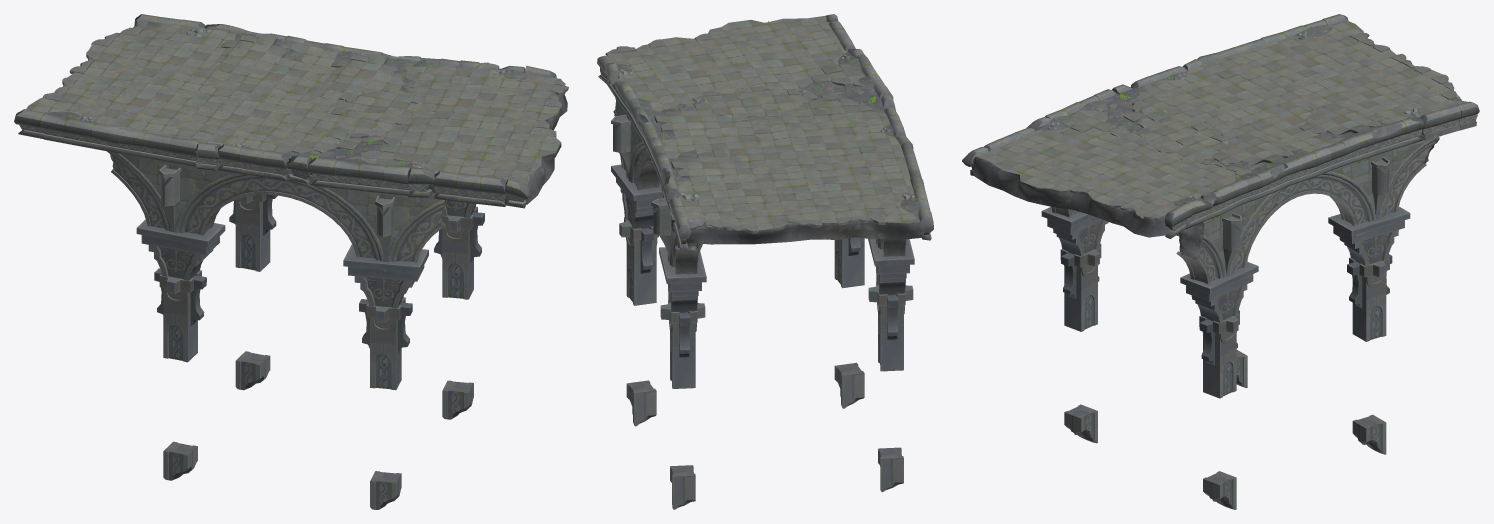
The model's file is SkillObj_Monster_Dvalin_Platform_02.fbx.
3 views of the same model, side by side, from view 1: azimuth 30°, elevation 25°; view 2: azimuth 150°, elevation 25°; view 3: azimuth 270°, elevation 25° (orthographic). The views are drawn at different scales.
Parts seen in each view (by area): view 1: Area_MdBuild_SdBridge13_Lod0.001, Area_MdBuild_SdArch06_04_Lod0.001, Area_MdProps_SdPillar02_02_Lod0.003, Area_MdProps_SdPillar02_02_Lod0.002, Area_MdProps_SdPillar02_02_Lod0, Area_MdBuild_SdRuins07_07_Lod0, Area_MdProps_SdPillar02_03_Lod0.003, Area_MdBuild_SdArch06_01_Lod0.001, Area_MdProps_SdPillar02_03_Lod0.002, Area_MdBuild_SdWall01_08_Lod0, Area_MdProps_SdPillar02_02_Lod0.001, Area_MdBuild_SdWall01_08_Lod0.001 (+9 smaller); view 2: Area_MdBuild_SdBridge13_Lod0.001, Area_MdBuild_SdRuins07_07_Lod0, Area_MdProps_SdPillar02_02_Lod0, Area_MdBuild_SdWall01_08_Lod0, Area_MdProps_SdPillar02_02_Lod0.003, Area_MdProps_SdPillar02_02_Lod0.001, Area_MdBuild_SdWall01_08_Lod0.001, Area_MdProps_SdPillar02_03_Lod0.001, Area_MdProps_SdPillar02_03_Lod0, Area_MdProps_SdPillar02_03_Lod0.003, Area_MdProps_SdPillar02_02_Lod0.002, Area_MdBuild_SdArch06_04_Lod0 (+10 smaller); view 3: Area_MdBuild_SdBridge13_Lod0.001, Area_MdBuild_SdArch06_04_Lod0, Area_MdProps_SdPillar02_02_Lod0.001, Area_MdProps_SdPillar02_02_Lod0.002, Area_MdProps_SdPillar02_02_Lod0, Area_MdBuild_SdRuins07_07_Lod0, Area_MdProps_SdPillar02_03_Lod0.001, Area_MdBuild_SdArch06_01_Lod0, Area_MdProps_SdPillar02_03_Lod0, Area_MdBuild_SdArch06_02_Lod0, Area_MdBuild_SdWall01_08_Lod0, Area_MdBuild_SdWall01_08_Lod0.001 (+8 smaller).
Boxes of the visible parts, x1=… form: Area_MdBuild_SdBridge13_Lod0.001: x1=14, y1=14, x2=567, y2=208; Area_MdBuild_SdArch06_04_Lod0.001: x1=172, y1=163, x2=386, y2=271; Area_MdProps_SdPillar02_02_Lod0.003: x1=154, y1=268, x2=206, y2=362; Area_MdProps_SdPillar02_02_Lod0.002: x1=359, y1=297, x2=412, y2=390; Area_MdProps_SdPillar02_02_Lod0: x1=434, y1=206, x2=484, y2=299; Area_MdBuild_SdRuins07_07_Lod0: x1=330, y1=79, x2=424, y2=138; Area_MdProps_SdPillar02_03_Lod0.003: x1=136, y1=219, x2=225, y2=280; Area_MdBuild_SdArch06_01_Lod0.001: x1=383, y1=192, x2=446, y2=271; Area_MdProps_SdPillar02_03_Lod0.002: x1=343, y1=244, x2=428, y2=308; Area_MdBuild_SdWall01_08_Lod0: x1=301, y1=53, x2=402, y2=101; Area_MdProps_SdPillar02_02_Lod0.001: x1=229, y1=194, x2=277, y2=271; Area_MdBuild_SdWall01_08_Lod0.001: x1=187, y1=34, x2=291, y2=82; Area_MdBuild_SdBridge13_Lod0.001: x1=597, y1=14, x2=933, y2=249; Area_MdBuild_SdRuins07_07_Lod0: x1=684, y1=86, x2=817, y2=118; Area_MdProps_SdPillar02_02_Lod0: x1=619, y1=217, x2=658, y2=305; Area_MdBuild_SdWall01_08_Lod0: x1=654, y1=103, x2=769, y2=138; Area_MdProps_SdPillar02_02_Lod0.003: x1=868, y1=282, x2=913, y2=371; Area_MdProps_SdPillar02_02_Lod0.001: x1=660, y1=300, x2=705, y2=388; Area_MdBuild_SdWall01_08_Lod0.001: x1=671, y1=149, x2=787, y2=184; Area_MdProps_SdPillar02_03_Lod0.001: x1=659, y1=247, x2=706, y2=312; Area_MdProps_SdPillar02_03_Lod0: x1=611, y1=164, x2=662, y2=228; Area_MdProps_SdPillar02_03_Lod0.003: x1=868, y1=239, x2=914, y2=294; Area_MdProps_SdPillar02_02_Lod0.002: x1=834, y1=237, x2=864, y2=288; Area_MdBuild_SdArch06_04_Lod0: x1=628, y1=118, x2=669, y2=261; Area_MdBuild_SdBridge13_Lod0.001: x1=962, y1=14, x2=1479, y2=238; Area_MdBuild_SdArch06_04_Lod0: x1=1227, y1=155, x2=1377, y2=279; Area_MdProps_SdPillar02_02_Lod0.001: x1=1347, y1=254, x2=1392, y2=341; Area_MdProps_SdPillar02_02_Lod0.002: x1=1060, y1=243, x2=1101, y2=331; Area_MdProps_SdPillar02_02_Lod0: x1=1199, y1=310, x2=1239, y2=398; Area_MdBuild_SdRuins07_07_Lod0: x1=1136, y1=118, x2=1233, y2=165; Area_MdProps_SdPillar02_03_Lod0.001: x1=1328, y1=206, x2=1410, y2=266; Area_MdBuild_SdArch06_01_Lod0: x1=1176, y1=212, x2=1227, y2=283; Area_MdProps_SdPillar02_03_Lod0: x1=1180, y1=261, x2=1258, y2=322; Area_MdBuild_SdArch06_02_Lod0: x1=1377, y1=128, x2=1440, y2=218; Area_MdBuild_SdWall01_08_Lod0: x1=1212, y1=119, x2=1297, y2=165; Area_MdBuild_SdWall01_08_Lod0.001: x1=1298, y1=88, x2=1383, y2=135.
Size of the model in its own units: 41.09 by 31.25 by 44.
14 materials, 14 textured.
